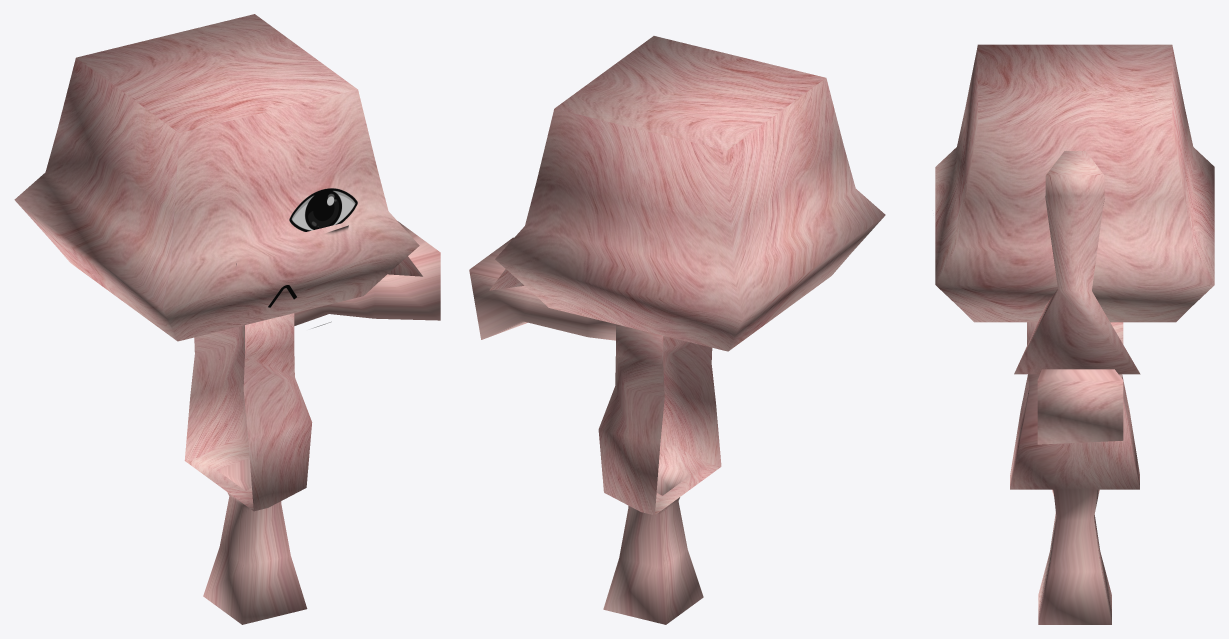
File: Protagonista.glb
3 renders of one model, left to right at view 1: azimuth 30°, elevation 25°; view 2: azimuth 150°, elevation 25°; view 3: azimuth 270°, elevation 25°, orthographic. The views are drawn at different scales.
Parts seen in each view (by area): view 1: Cube, Cube.002, ojito.001; view 2: Cube, Cube.002; view 3: Cube, Cube.002, Cube.001.
Boxes of the visible parts, bbox=[...] form: Cube: bbox=[14, 14, 419, 341]; Cube.002: bbox=[184, 221, 440, 624]; ojito.001: bbox=[289, 188, 357, 231]; Cube: bbox=[495, 36, 885, 351]; Cube.002: bbox=[469, 237, 721, 624]; Cube: bbox=[935, 44, 1214, 322]; Cube.002: bbox=[1010, 322, 1139, 624]; Cube.001: bbox=[1014, 151, 1140, 374].
Bounding box in the file's own units: 2.93 × 4.26 × 2.24.
Materials: 4 (4 with a texture image).
